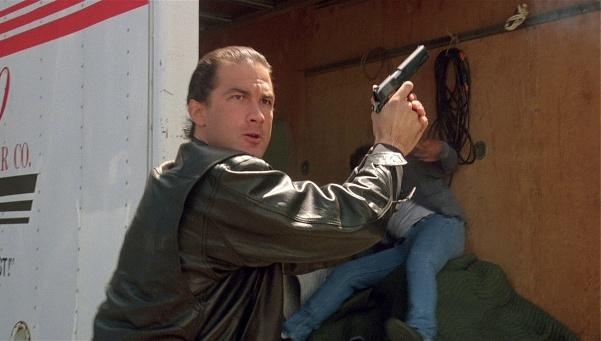Gun: (372, 41, 431, 115)
